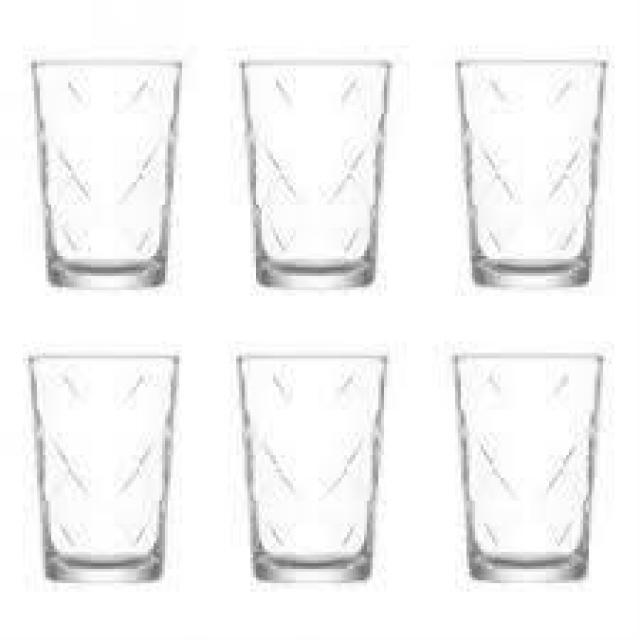glass: (25, 60, 185, 293)
